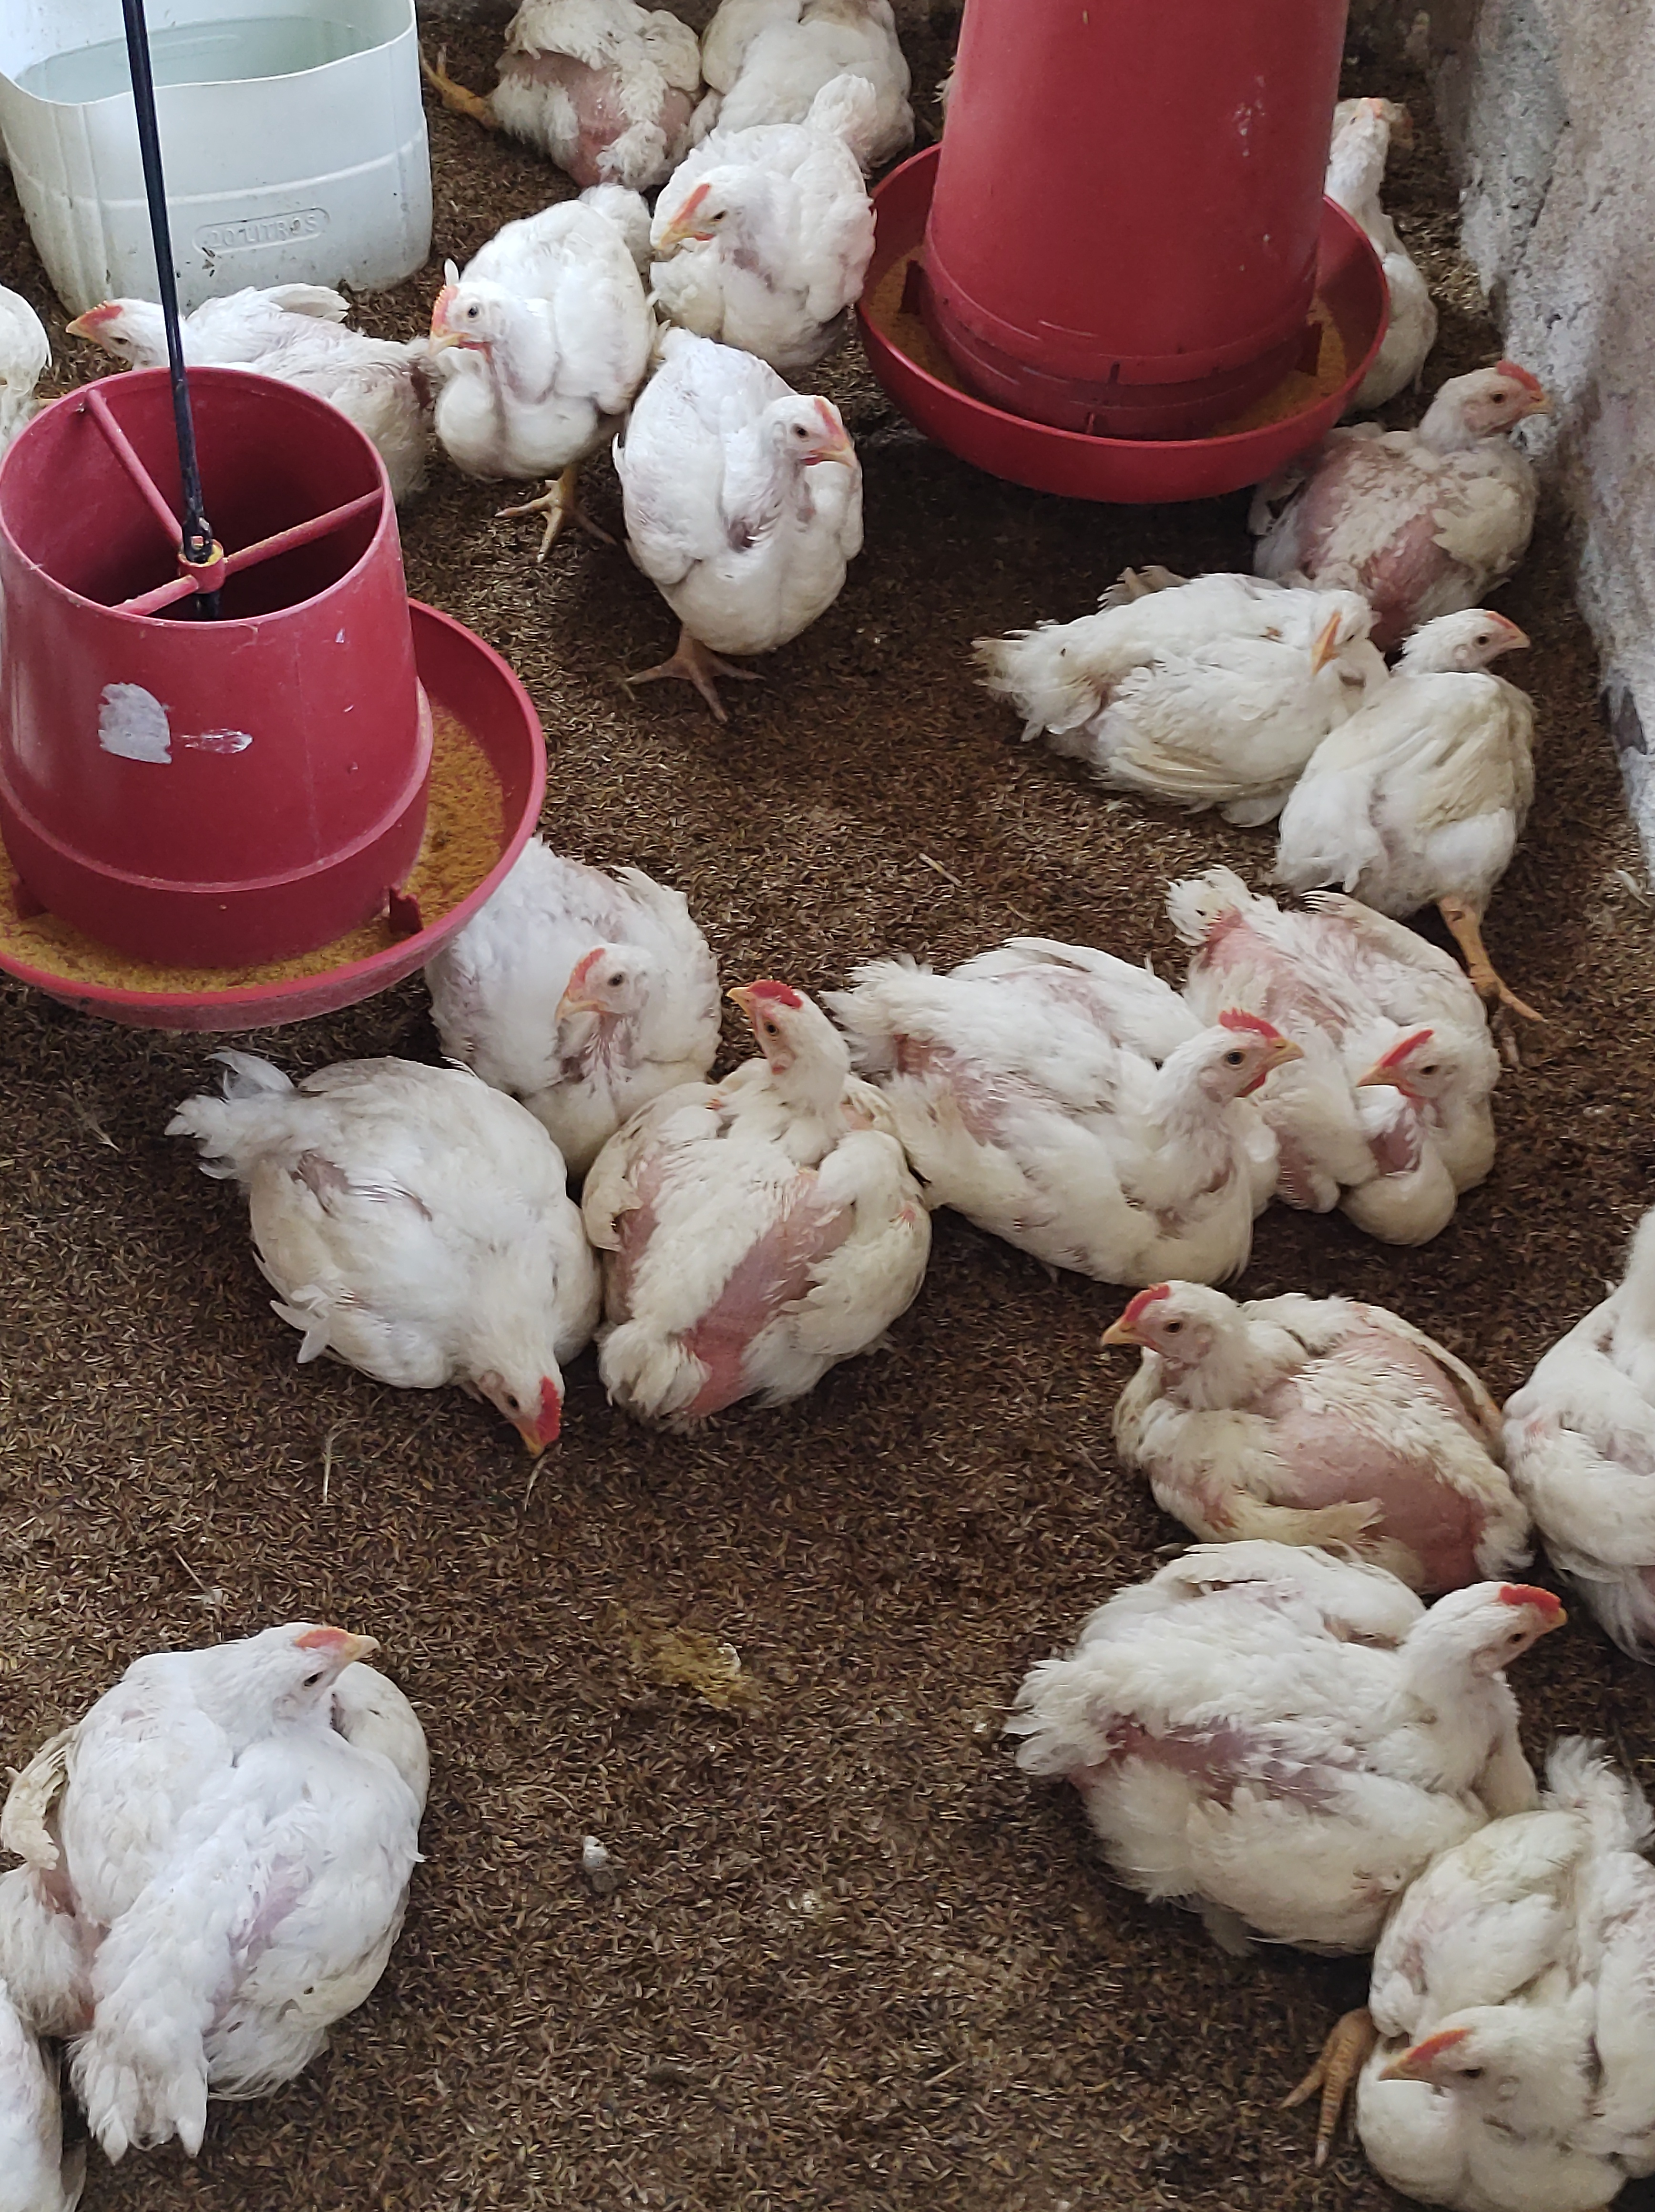Pollos: (0, 1562, 464, 2174), (1007, 1553, 1554, 1965), (172, 1028, 584, 1504), (1269, 1746, 1655, 2212), (581, 951, 944, 1431), (871, 868, 1264, 1280), (1080, 1212, 1516, 1537), (993, 523, 1380, 800), (1177, 922, 1492, 1223), (1283, 334, 1579, 626), (1502, 1125, 1655, 1683), (1337, 610, 1599, 936), (624, 339, 876, 675), (90, 247, 421, 490), (424, 786, 692, 1082), (405, 179, 648, 490), (657, 117, 881, 339), (711, 0, 958, 179), (459, 0, 721, 165)
